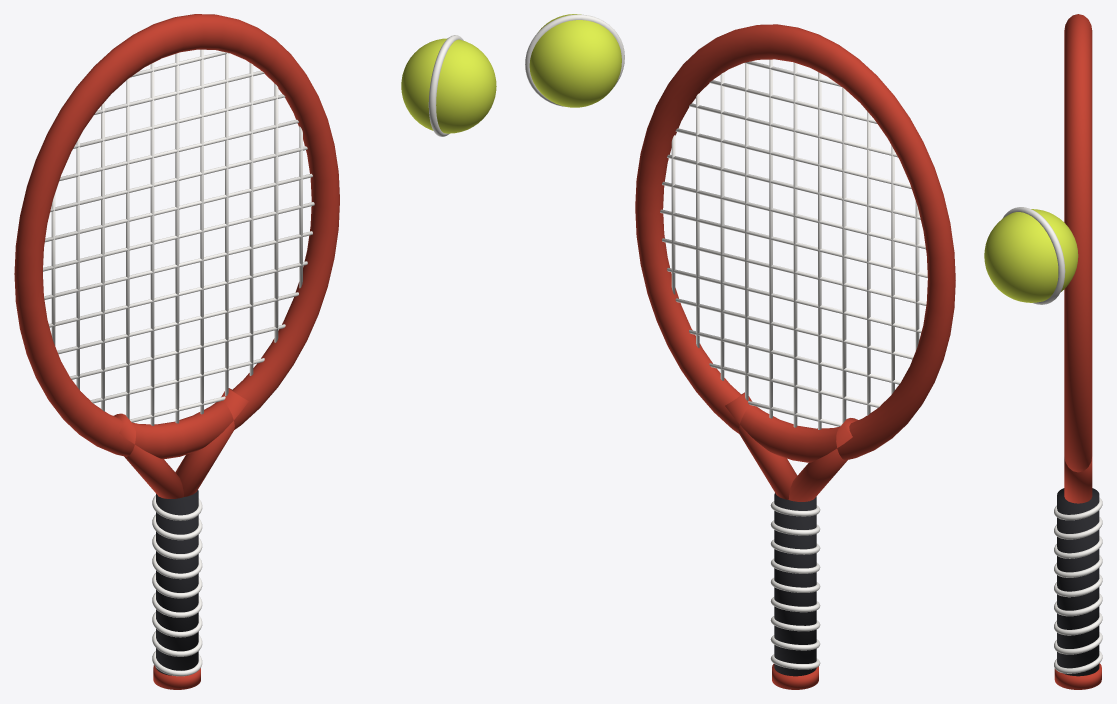
The model's file is tennis-racket.glb.
3 renders of one model, left to right at view 1: azimuth 30°, elevation 25°; view 2: azimuth 150°, elevation 25°; view 3: azimuth 270°, elevation 25°, orthographic.
Parts seen in each view (by area): view 1: part0, part1, part38, part27, part25; view 2: part0, part1, part38, part27, part25; view 3: part0, part38, part27, part1, part25.
Boxes of the visible parts, box(x1,y1,x2,y2) form: part0: box(14, 14, 339, 459); part1: box(43, 35, 463, 676); part38: box(401, 38, 496, 133); part27: box(156, 490, 198, 675); part25: box(113, 388, 248, 689); part0: box(635, 24, 955, 462); part1: box(525, 14, 927, 669); part38: box(529, 14, 621, 107); part27: box(774, 493, 816, 676); part25: box(725, 392, 858, 689); part0: box(1064, 14, 1092, 472); part38: box(984, 209, 1078, 302); part27: box(1057, 488, 1099, 676); part1: box(1002, 207, 1102, 673); part25: box(1054, 457, 1101, 689).
Size of the model in its own units: 0.7115 by 1 by 0.1644.
